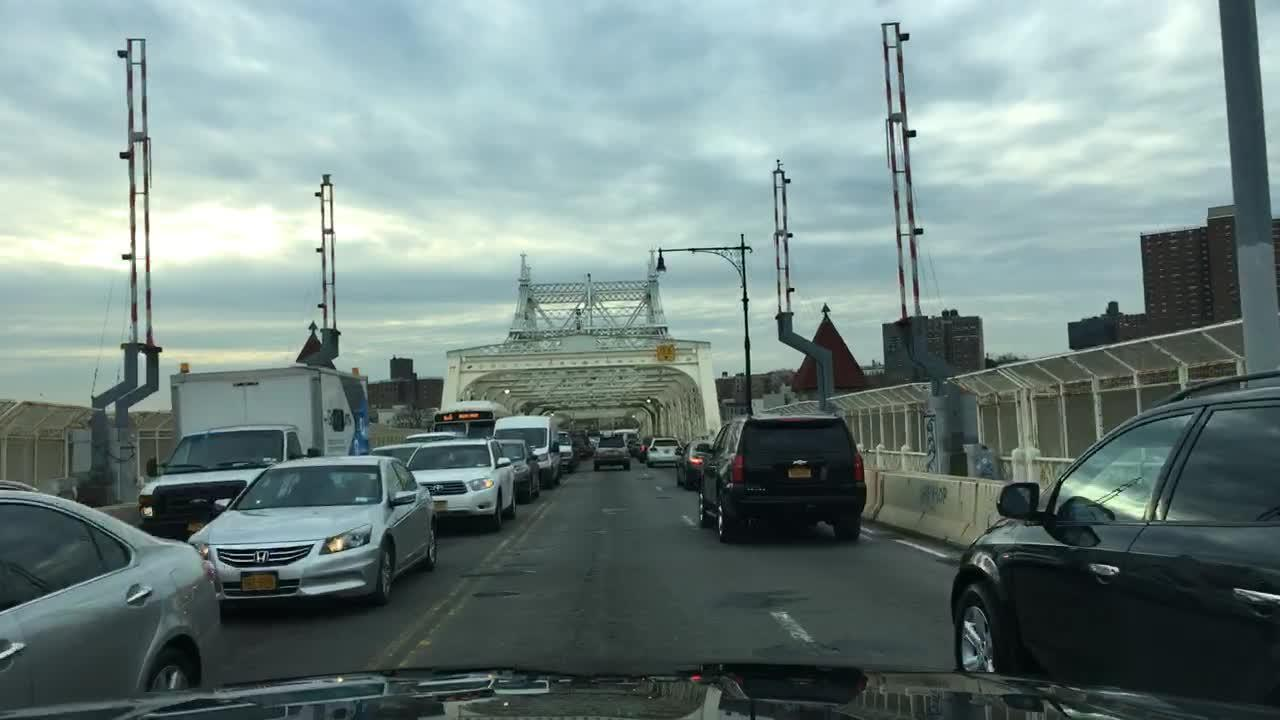Honda: (248, 547, 271, 567)
Toyota: (429, 479, 447, 496)
chevrolet: (786, 454, 811, 471)
